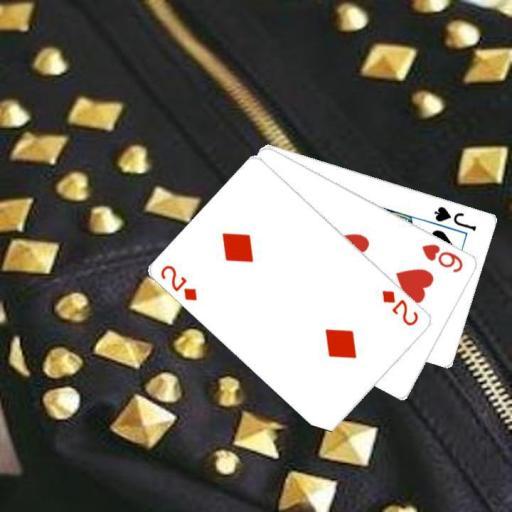2D: (379, 287, 420, 328), (158, 262, 199, 302)
6H: (419, 241, 465, 275)
JS: (431, 203, 478, 233)
